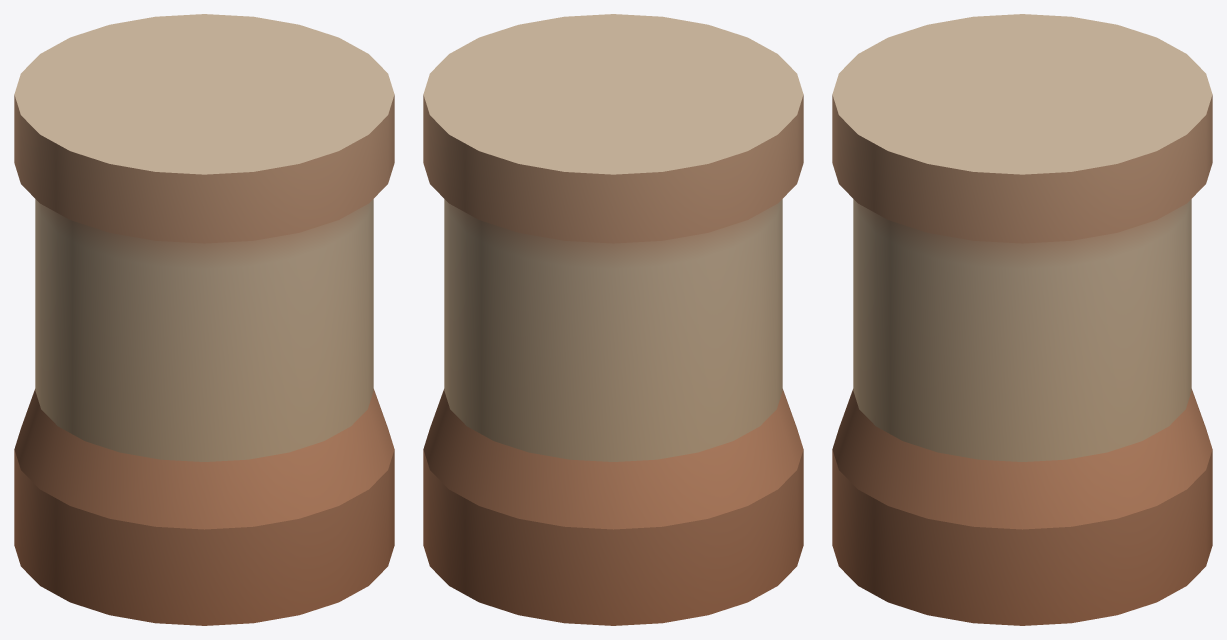
Rendered from tower-base.glb.
3 views of the same model, side by side, from view 1: azimuth 30°, elevation 25°; view 2: azimuth 150°, elevation 25°; view 3: azimuth 270°, elevation 25° (orthographic).
Visible parts, largest first — view 1: tower-base; view 2: tower-base; view 3: tower-base.
Boxes of the visible parts, x1,y1,x2,y2 form: tower-base: (14, 14, 394, 625); tower-base: (423, 14, 803, 625); tower-base: (832, 14, 1212, 625).
Size of the model in its own units: 1 by 1.31 by 1.
